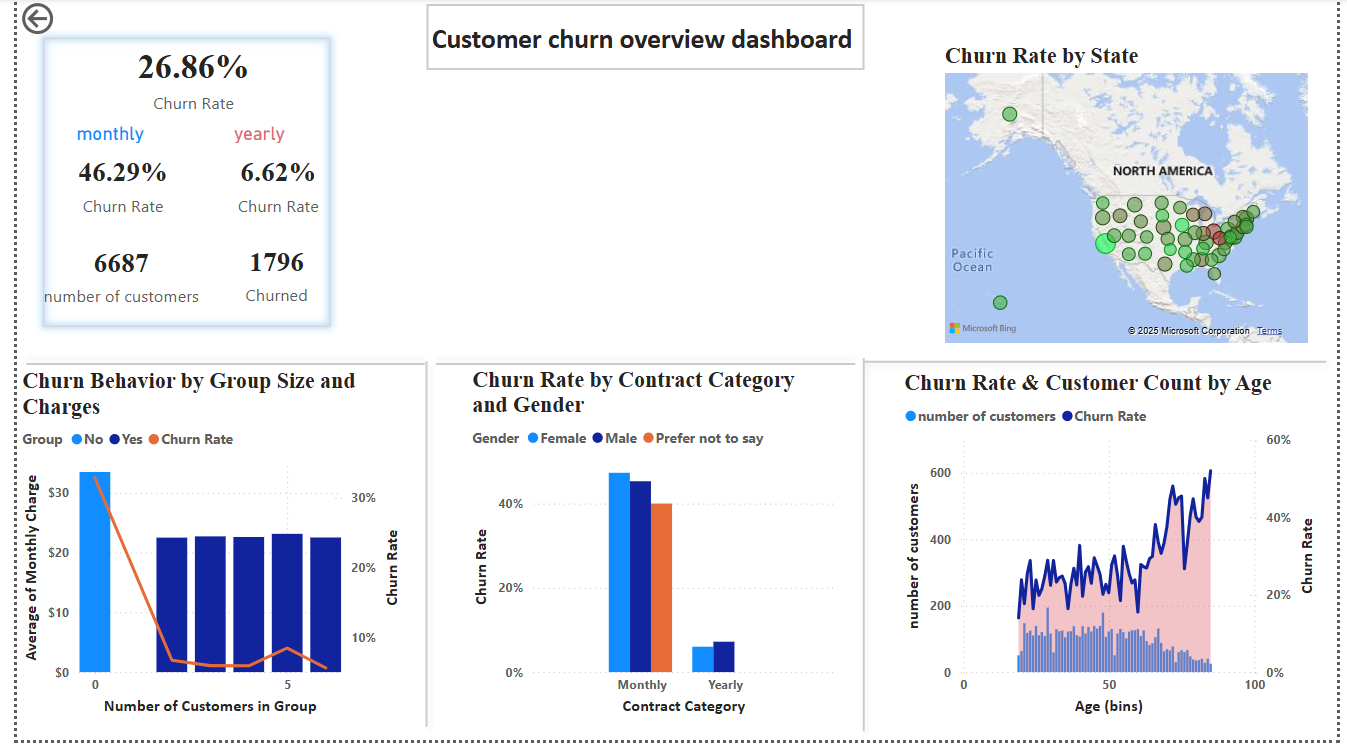

The dashboard page shown, as its layout file describes it:
{"tool":"powerbi","page":{"name":"Page 1","canvas":[1280,720],"ordinal":0},"visuals":[{"type":"card","fields":{"Values":["Databel - Data.number of customers"]},"box":[17.8,229.9,166.8,72.9],"z":0},{"type":"card","fields":{"Values":["Databel - Data.Churned"]},"box":[202.4,223.5,98.8,82.6],"z":1000},{"type":"card","fields":{"Values":["Databel - Data.Churn Rate"]},"box":[68.4,30.6,205.2,90.2],"z":2000},{"type":"lineStackedColumnComboChart","title":"Churn Rate & Customer Count by Age","fields":{"Category":["Databel - Data.Age (bins)"],"Y2":["Databel - Data.Churn Rate"],"Y":["Databel - Data.number of customers"]},"box":[855.9,361,410.5,339.1],"z":3000},{"type":"lineStackedColumnComboChart","title":"Churn Behavior by Group Size and Charges","fields":{"Y2":["Databel - Data.Churn Rate"],"Category":["Databel - Data.Number of Customers in Group"],"Y":["Avg(Databel - Data.Monthly Charge)"],"Series":["Databel - Data.Group"]},"box":[0,359.5,378.4,340.6],"z":4000},{"type":"clusteredColumnChart","fields":{"Series":["Databel - Data.Gender"],"Y":["Databel - Data.Churn Rate"],"Category":["Databel - Data.Contract Category1"]},"box":[436.7,358.1,361,342.1],"z":5000},{"type":"actionButton","box":[0,0,100,40],"z":6000},{"type":"card","title":"monthly","fields":{"Values":["Databel - Data.Churn Rate"]},"box":[52.4,120.8,100.4,96.1],"z":7000},{"type":"card","title":"yearly","fields":{"Values":["Databel - Data.Churn Rate"]},"box":[205.2,120.8,96.1,96.1],"z":8000},{"type":"map","fields":{"Category":["Databel - Data.State"],"Size":["Databel - Data.Churn Rate"]},"box":[895.4,43.7,362.7,296.3],"z":9000},{"type":"textbox","box":[396.7,18.2,439.1,71.2],"z":10000},{"type":"shape","box":[378.4,343.5,37.8,372.6],"z":11000},{"type":"shape","box":[797.6,340.6,48,379.9],"z":12000},{"type":"shape","box":[17.8,30.8,294.7,296.3],"z":13000},{"type":"shape","box":[381.6,10.6,455.8,65.1],"z":14000},{"type":"shape","box":[0,327.5,404.6,55.3],"z":15000},{"type":"shape","box":[812.2,327.5,467.2,50.9],"z":16000},{"type":"shape","box":[397.4,305.7,425,99],"z":17000}]}

Visuals, with their boxes in screenshot pixels (x1, y1, x2, y2), scaled from the page's 1280x720 canvas onto the 1347x747 screenshot:
card - Databel - Data.number of customers: [left=19, top=239, right=194, bottom=314]
card - Databel - Data.Churned: [left=213, top=232, right=317, bottom=318]
card - Databel - Data.Churn Rate: [left=72, top=32, right=288, bottom=125]
"Churn Rate & Customer Count by Age" lineStackedColumnComboChart: [left=901, top=375, right=1333, bottom=726]
"Churn Behavior by Group Size and Charges" lineStackedColumnComboChart: [left=0, top=373, right=398, bottom=726]
clusteredColumnChart - Databel - Data.Gender x Databel - Data.Churn Rate: [left=460, top=372, right=839, bottom=726]
actionButton: [left=0, top=0, right=105, bottom=42]
"monthly" card: [left=55, top=125, right=161, bottom=225]
"yearly" card: [left=216, top=125, right=317, bottom=225]
map - Databel - Data.State x Databel - Data.Churn Rate: [left=942, top=45, right=1324, bottom=353]
textbox: [left=417, top=19, right=880, bottom=93]
shape: [left=398, top=356, right=438, bottom=743]
shape: [left=839, top=353, right=890, bottom=746]
shape: [left=19, top=32, right=329, bottom=339]
shape: [left=402, top=11, right=881, bottom=79]
shape: [left=0, top=340, right=426, bottom=397]
shape: [left=855, top=340, right=1346, bottom=393]
shape: [left=418, top=317, right=865, bottom=420]
